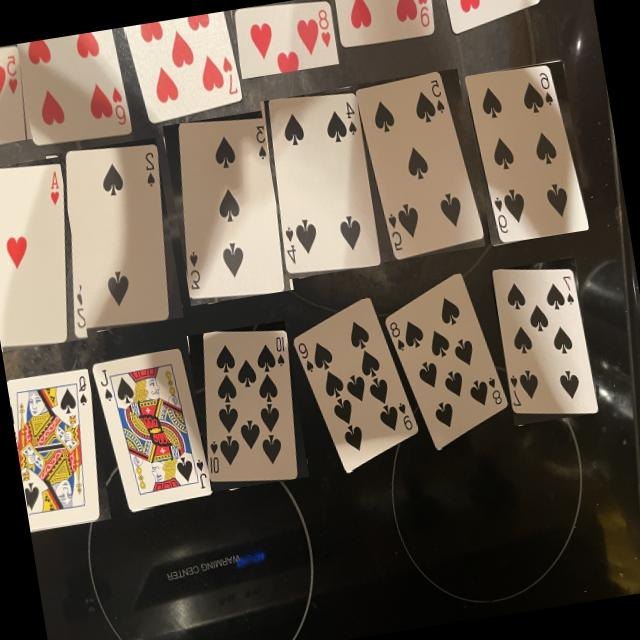10 of hearts: (445, 0, 539, 33)
10 of spades: (202, 330, 296, 482)
2 of spades: (65, 145, 168, 331)
3 of spades: (176, 119, 282, 300)
4 of spades: (268, 93, 380, 274)
5 of hearts: (0, 47, 23, 144)
5 of spades: (355, 72, 482, 260)
6 of hearts: (11, 29, 131, 145)
6 of spades: (464, 65, 587, 242)
7 of hearts: (124, 12, 241, 124)
7 of spades: (491, 269, 597, 414)
8 of hearts: (234, 1, 337, 79)
8 of spades: (385, 274, 506, 449)
9 of hearts: (334, 0, 433, 48)
9 of spades: (293, 299, 417, 472)
Ace of hearts: (0, 164, 65, 347)
Jack of spades: (93, 349, 211, 511)
Queen of spades: (8, 371, 97, 531)
